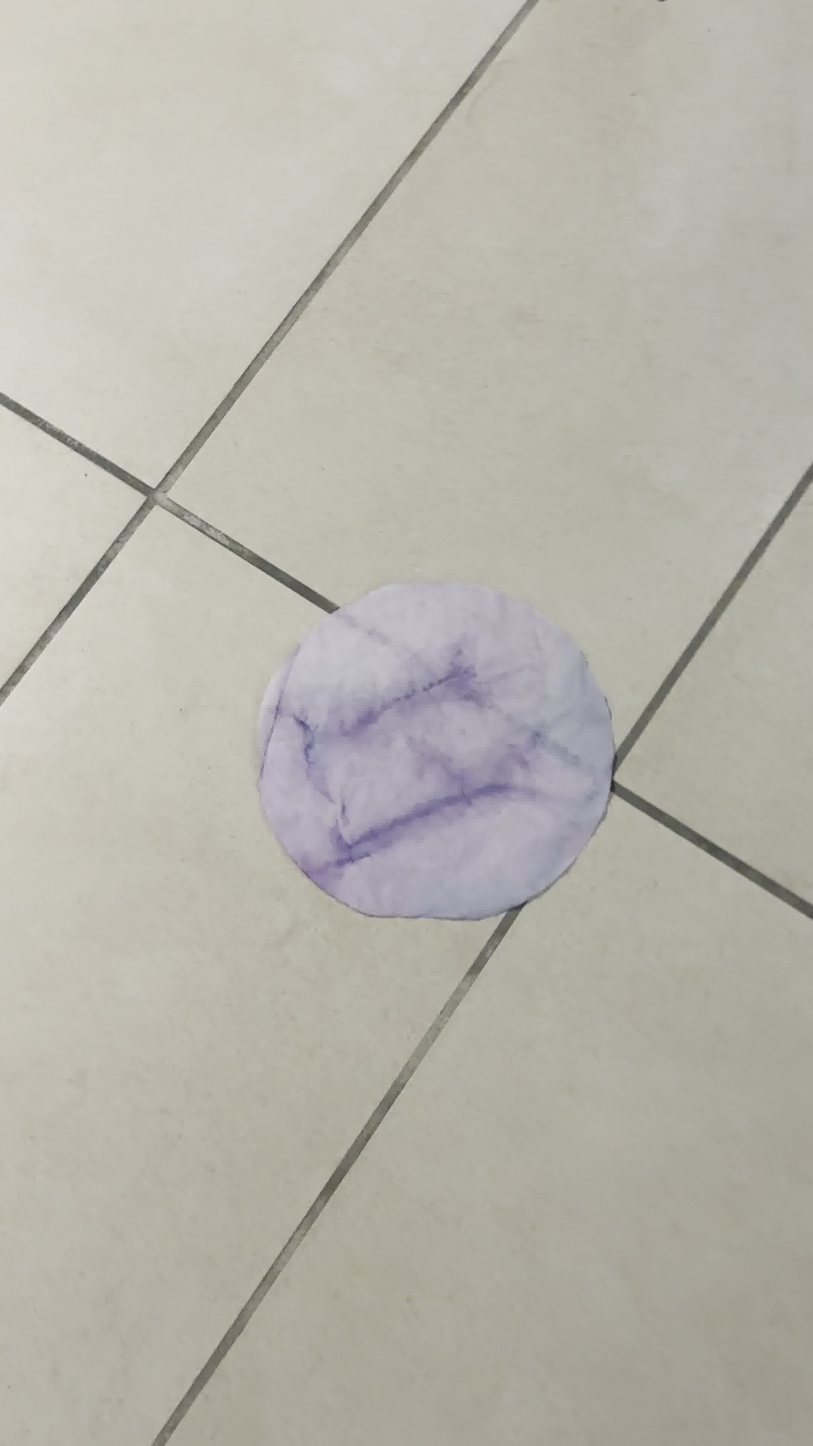Target: (250, 583, 613, 922)
